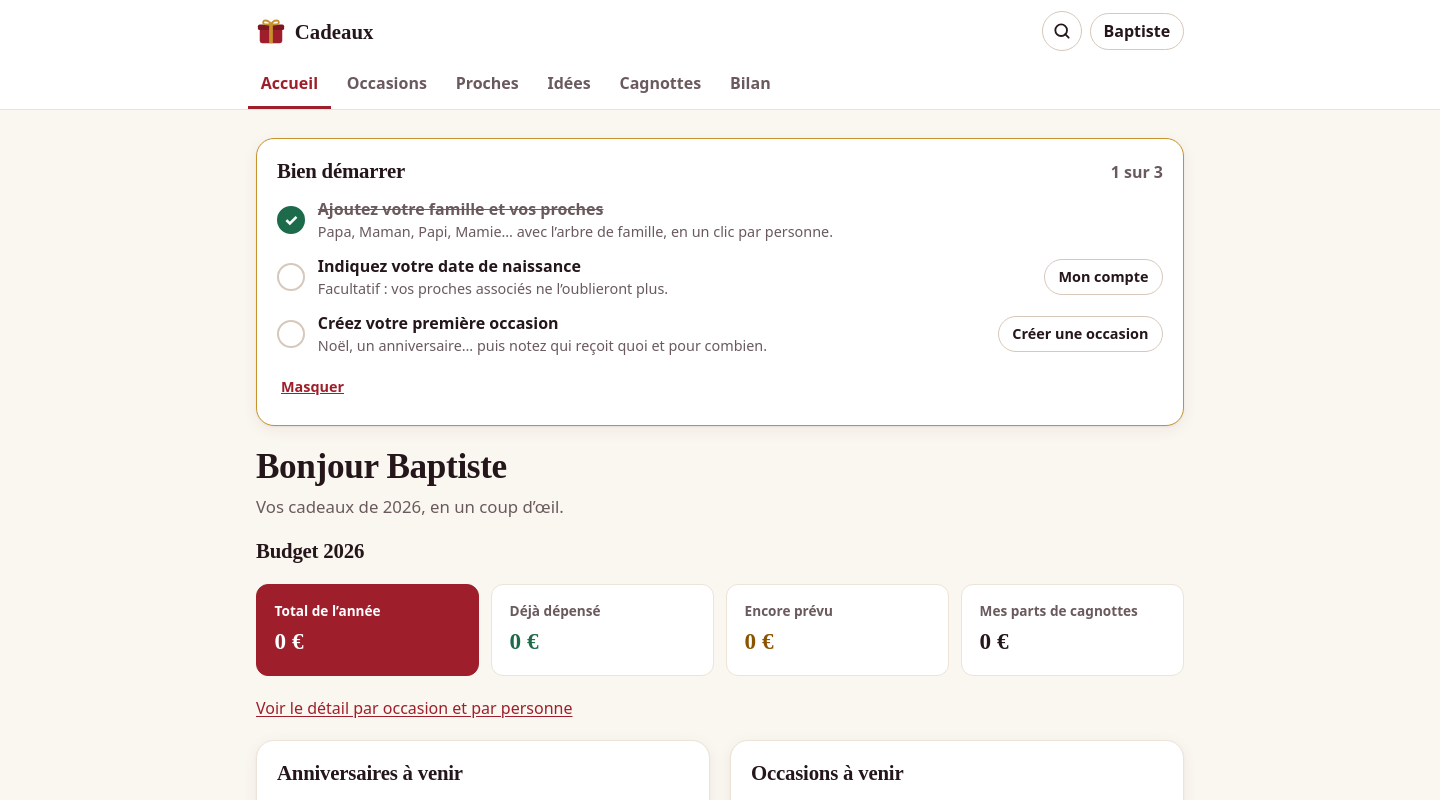
Test case: bien démarrer › nouveau compte : trois étapes, cochées au fur et à mesure, et masquables
Expected: the heading "Bien démarrer" is shown, x1=277 y1=159 x2=405 y2=184
Expected: the text "1 sur 3" is shown, x1=1111 y1=160 x2=1163 y2=184
Click the button "Masquer": [312, 387] box x1=277 y1=369 x2=348 y2=405
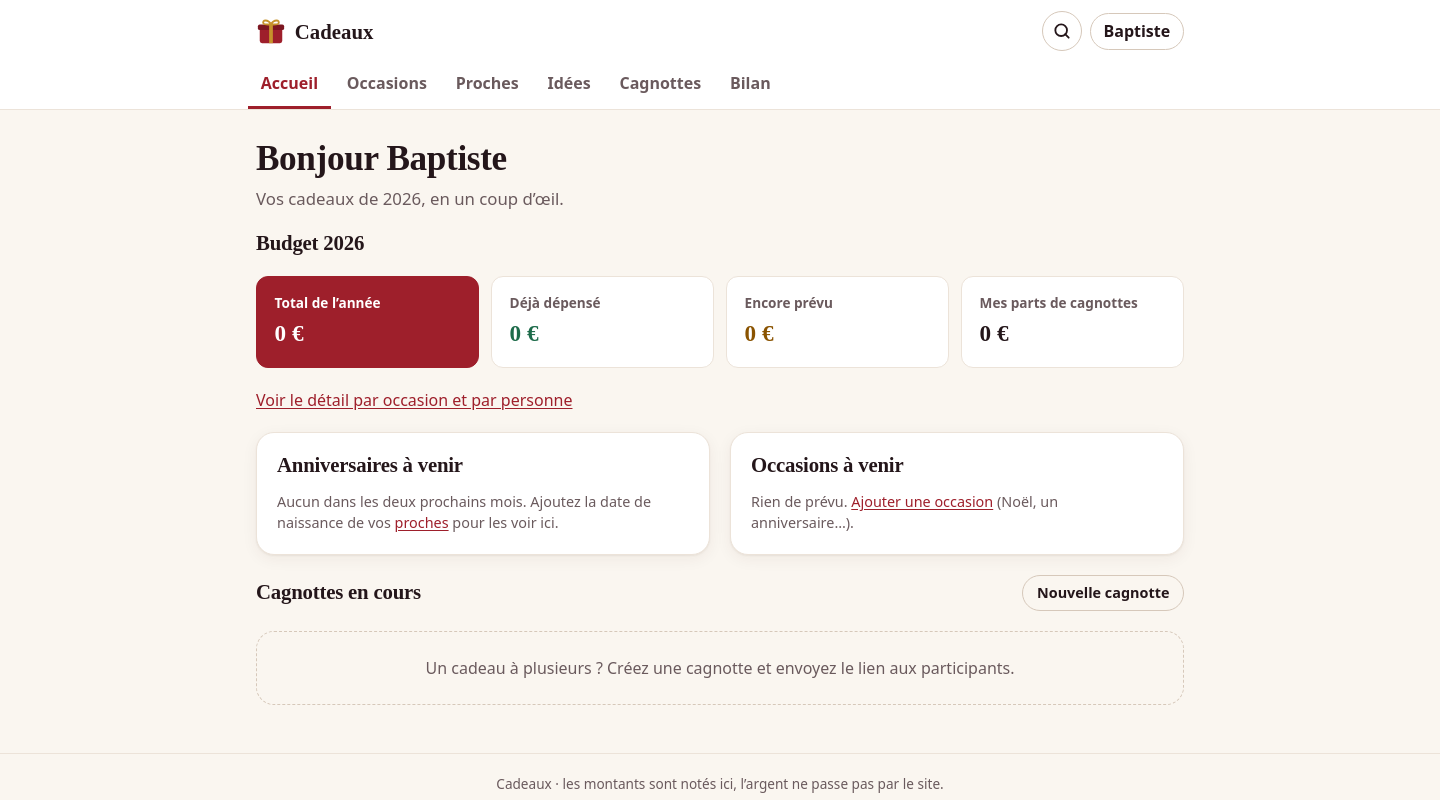
Expected: the heading "Bien démarrer" is gone
